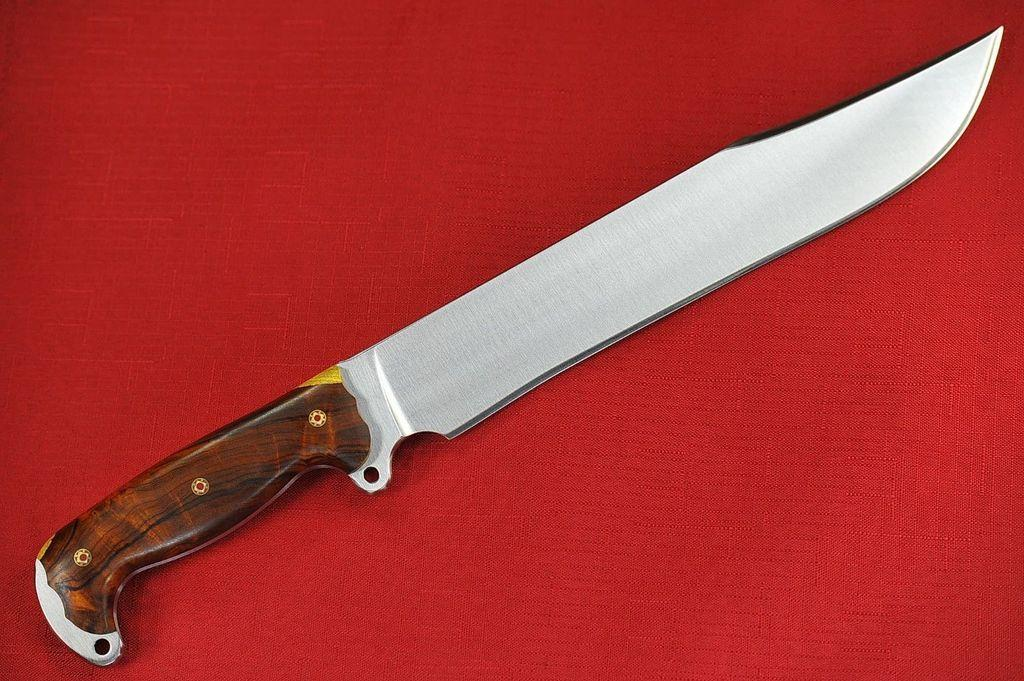Knife: (29, 25, 1005, 661)
